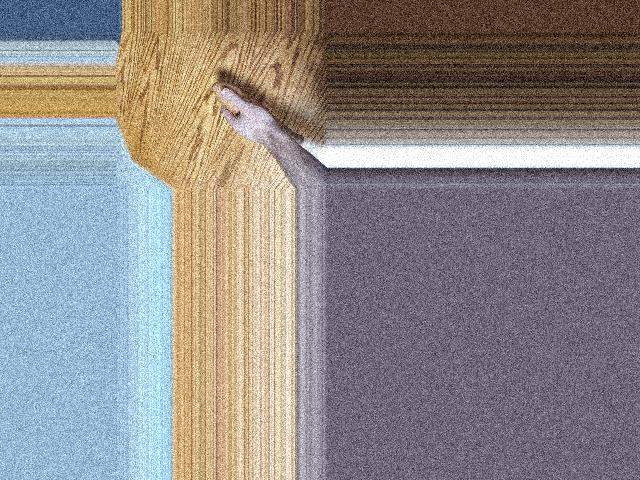sweet_potato: (210, 79, 305, 143)
